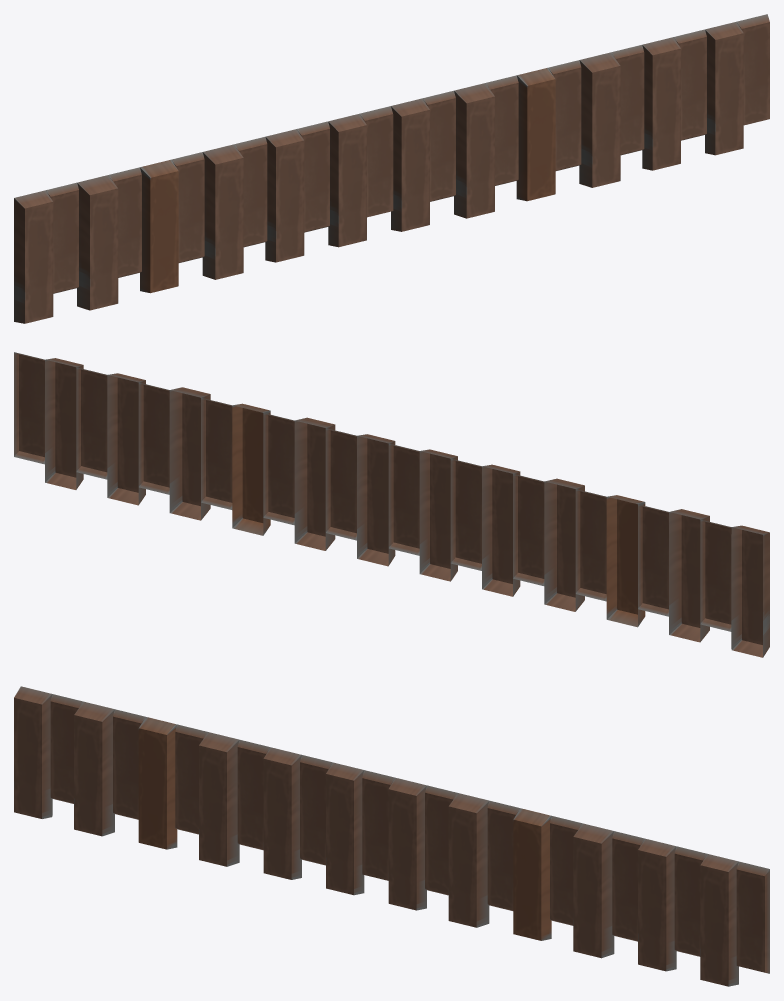
File: Brick_Ornament_Horizontal.gltf
The picture shows the model from 3 angles, top to bottom: view 1: azimuth 30°, elevation 25°; view 2: azimuth 150°, elevation 25°; view 3: azimuth 330°, elevation 25°; orthographic projection.
Parts seen in each view (by area): view 1: Brick_Ornament_Horizontal; view 2: Brick_Ornament_Horizontal; view 3: Brick_Ornament_Horizontal.
Part boxes in pixels (x1,y1,x2,y2): Brick_Ornament_Horizontal: [14, 14, 769, 323]; Brick_Ornament_Horizontal: [14, 352, 769, 657]; Brick_Ornament_Horizontal: [14, 686, 769, 986].
Size of the model in its own units: 2 by 0.314 by 0.0514.
1 material, 1 textured.
